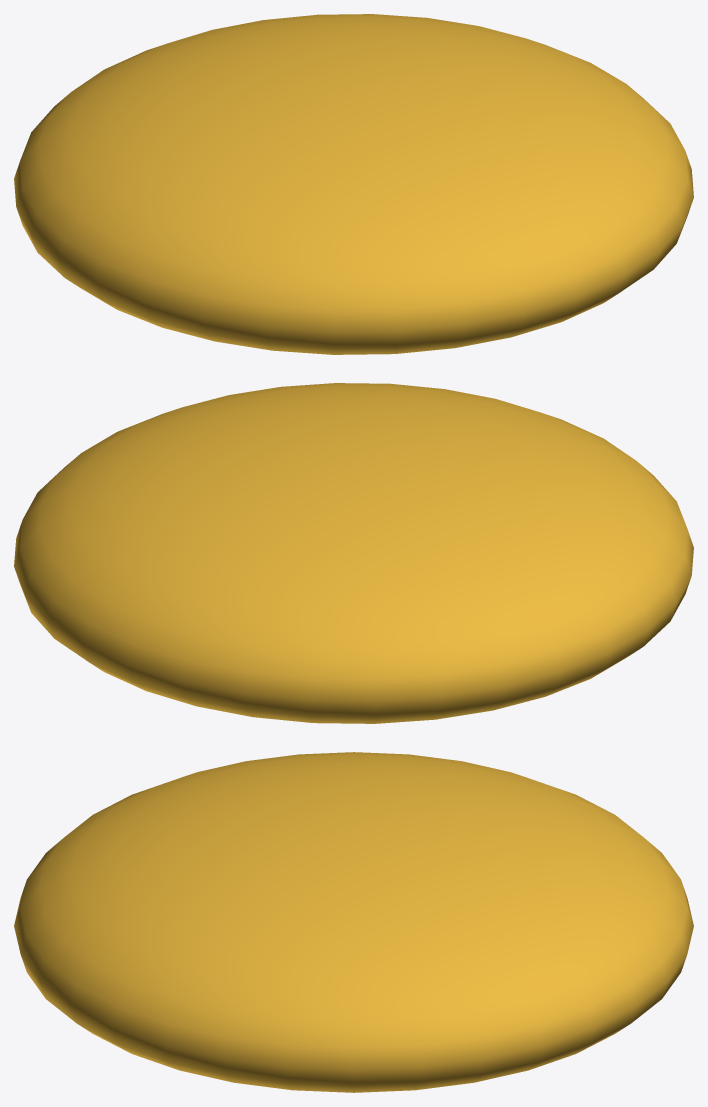
Rendered from クッキー(バニラ).fbx.
The picture shows the model from 3 angles, top to bottom: view 1: azimuth 30°, elevation 25°; view 2: azimuth 150°, elevation 25°; view 3: azimuth 270°, elevation 25°; orthographic projection.
Visible parts, largest first — view 1: 球; view 2: 球; view 3: 球.
Boxes of the visible parts, <box> form: 球: <box>14,14,693,354</box>; 球: <box>14,383,693,723</box>; 球: <box>14,752,693,1092</box>.
Bounding box in the file's own units: 200 × 53.08 × 200.
